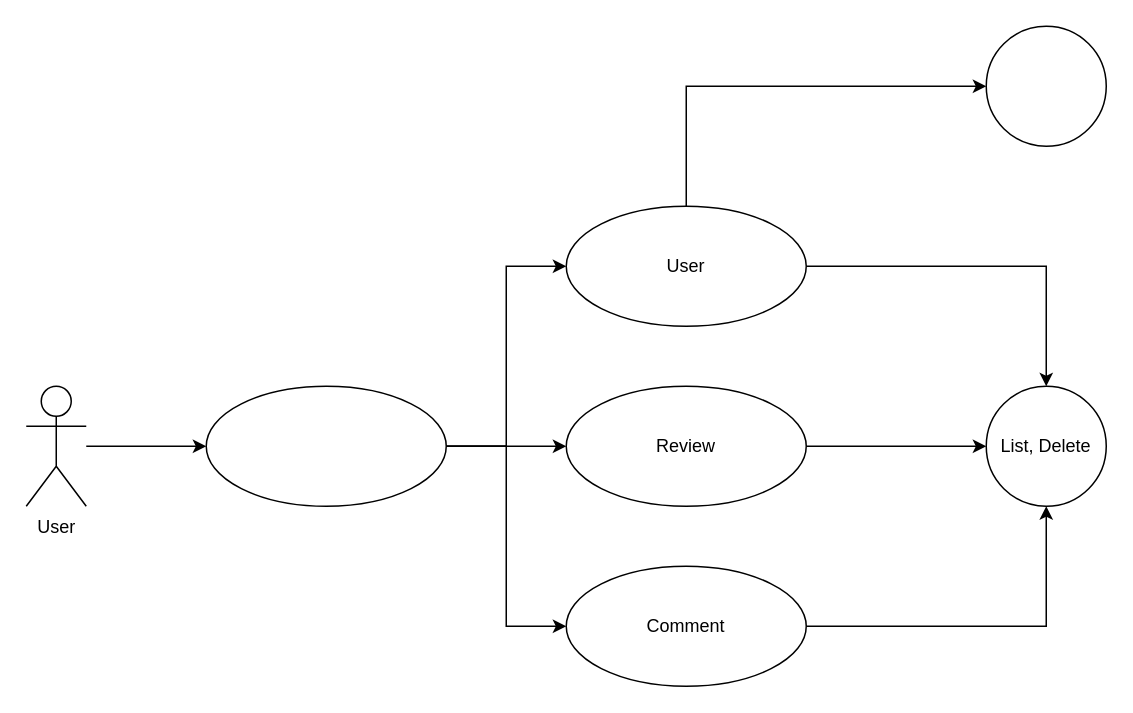
Image size: 1133x713. Some labels were removed from this diagram. Here are the shapes that lost their labels. From the top down, the centre of each, then its label:
[1045,85]: Change Status
[325,445]: User Manager
